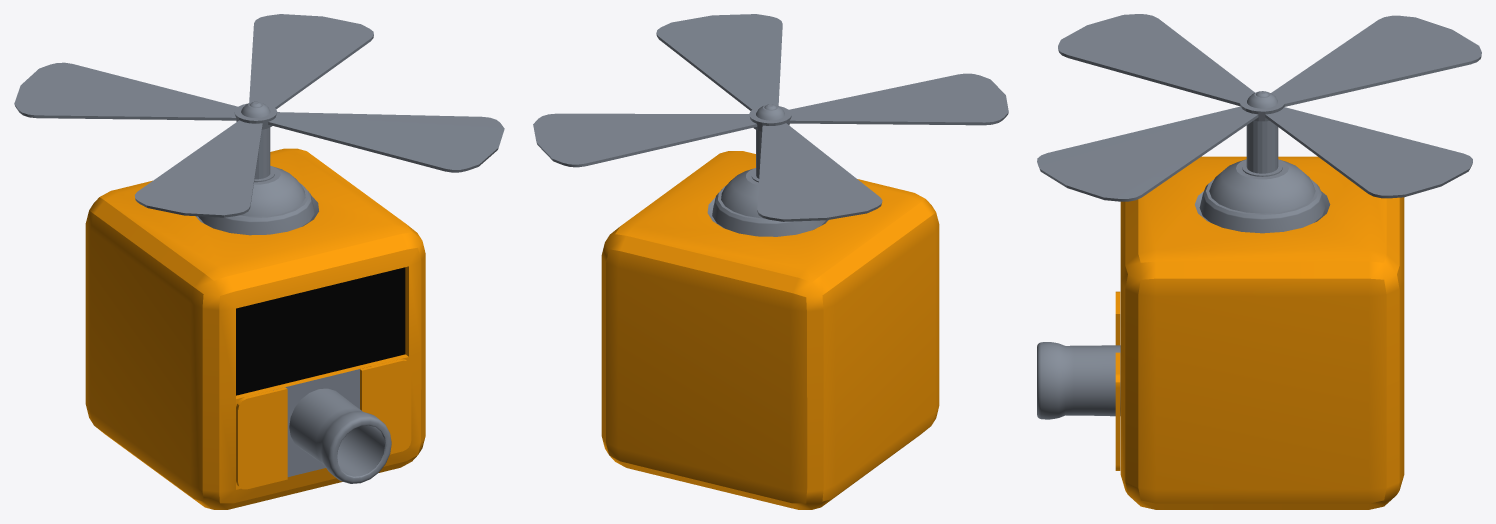
The model's file is Propeller6.fbx.
The picture shows the model from 3 angles, left to right: view 1: azimuth 30°, elevation 25°; view 2: azimuth 150°, elevation 25°; view 3: azimuth 270°, elevation 25°; orthographic projection. The views are drawn at different scales.
Parts seen in each view (by area): view 1: pCylinder14; view 2: pCylinder14; view 3: pCylinder14.
Boxes of the visible parts, box(x1,y1,x2,y2) form: pCylinder14: box(14, 14, 504, 509); pCylinder14: box(533, 14, 1008, 509); pCylinder14: box(1037, 14, 1481, 509).
Bounding box in the file's own units: 44.52 × 41.91 × 45.65.
